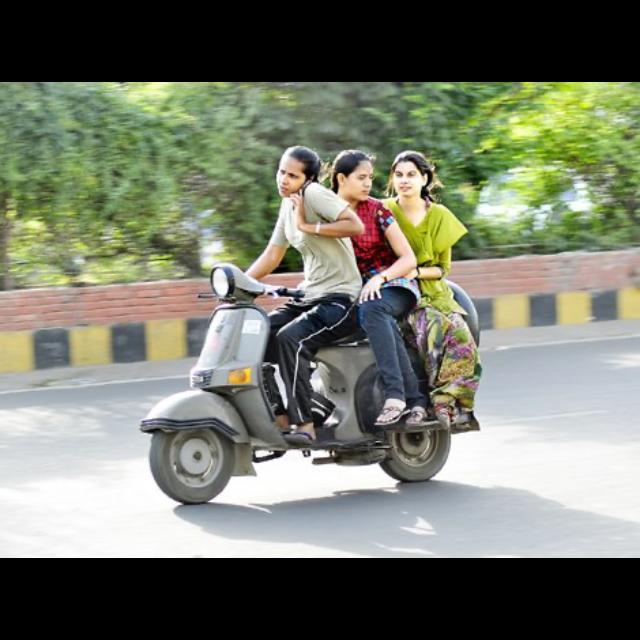Without Helmet: (274, 138, 318, 198)
